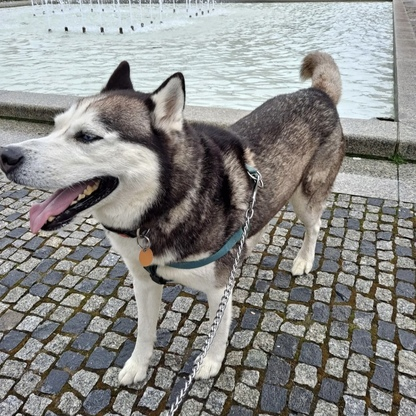husky: (1, 45, 354, 386)
